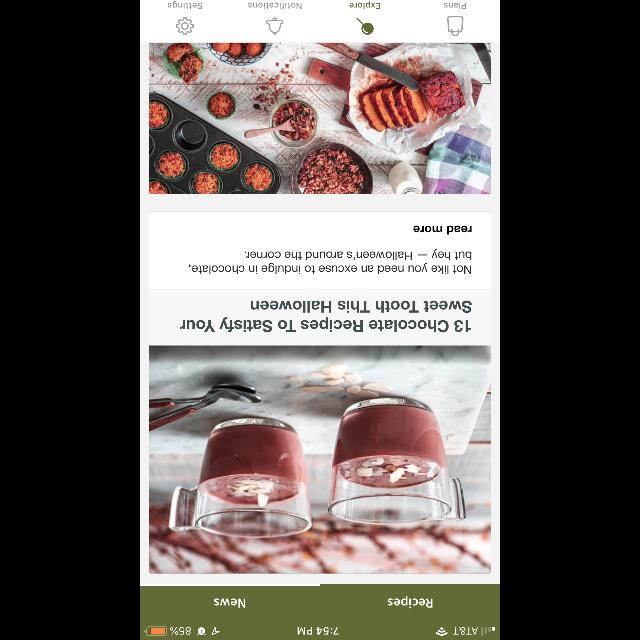icon: (446, 16, 464, 36), (356, 18, 374, 34), (266, 18, 284, 34), (176, 18, 194, 34)
image: (150, 345, 490, 573), (150, 43, 490, 193)
text: (180, 300, 472, 332), (189, 250, 471, 274), (388, 596, 432, 608), (413, 226, 471, 234), (248, 2, 302, 10), (214, 598, 246, 608), (168, 1, 202, 9), (348, 1, 379, 9), (444, 3, 466, 9)
uppertaskbar: (140, 626, 500, 640)
